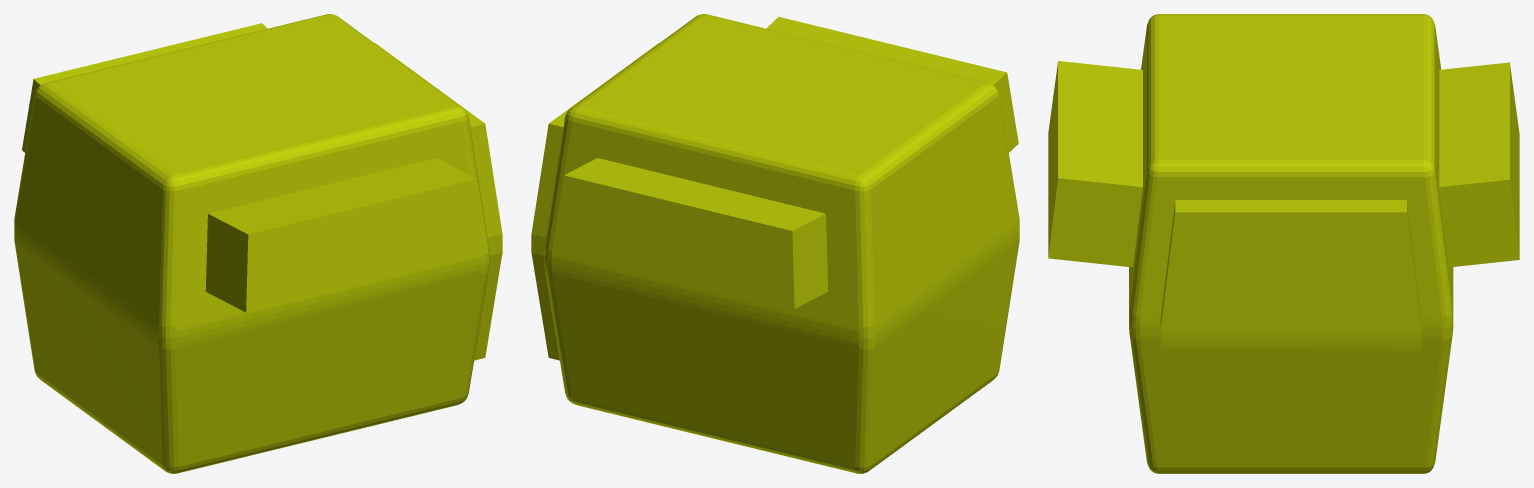
Rendered from dog _kennel.fbx.
The picture shows the model from 3 angles, left to right: view 1: azimuth 30°, elevation 25°; view 2: azimuth 150°, elevation 25°; view 3: azimuth 270°, elevation 25°; orthographic projection. The views are drawn at different scales.
Visible parts, largest first — view 1: dog__kennel; view 2: dog__kennel; view 3: dog__kennel.
Part boxes in pixels (bbox=[...]): dog__kennel: bbox=[14, 14, 502, 473]; dog__kennel: bbox=[531, 14, 1019, 473]; dog__kennel: bbox=[1048, 14, 1519, 473].
Bounding box in the file's own units: 234 × 188 × 256.
